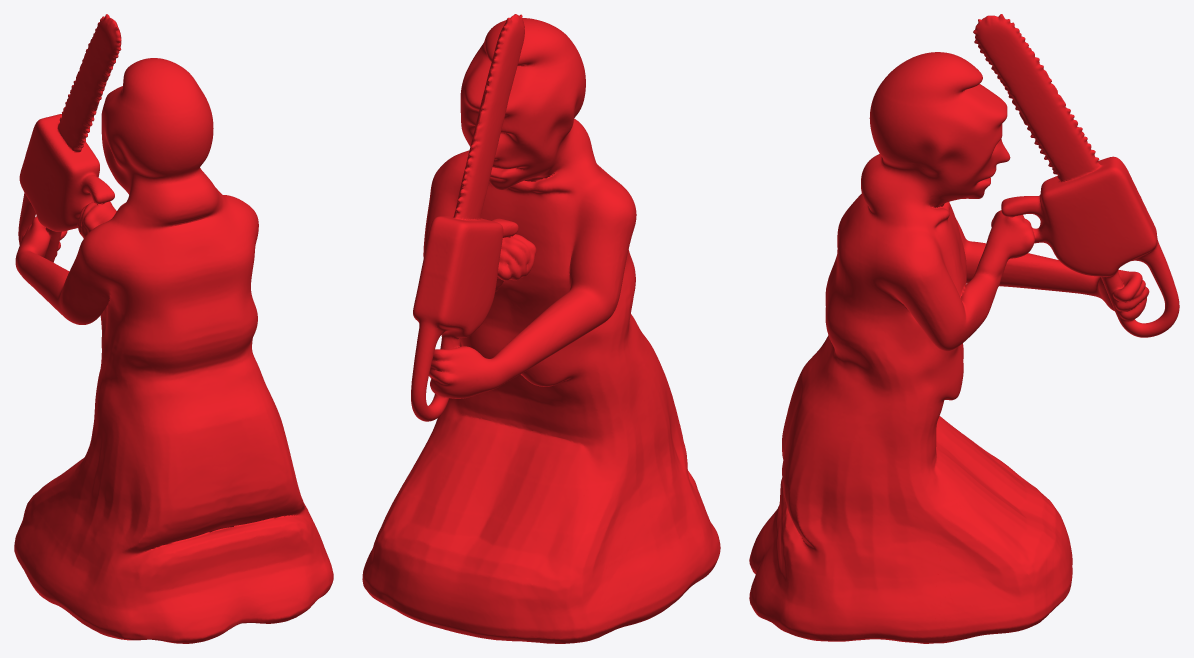
File: asset.glb
The picture shows the model from 3 angles, left to right: view 1: azimuth 30°, elevation 25°; view 2: azimuth 150°, elevation 25°; view 3: azimuth 270°, elevation 25°; orthographic projection. The views are drawn at different scales.
Visible parts, largest first — view 1: node_id14, node_id11, node_id8, node_id17; view 2: node_id8, node_id11, node_id14, node_id17; view 3: node_id11, node_id8, node_id14, node_id17.
Boxes of the visible parts, <box> form: node_id14: <box>29,58,333,643</box>; node_id11: <box>16,14,333,622</box>; node_id8: <box>14,16,116,585</box>; node_id17: <box>21,26,170,583</box>; node_id8: <box>362,22,654,643</box>; node_id11: <box>398,14,674,632</box>; node_id14: <box>426,18,720,616</box>; node_id17: <box>403,20,659,627</box>; node_id11: <box>749,14,1009,643</box>; node_id8: <box>937,18,1179,639</box>; node_id14: <box>749,52,986,643</box>; node_id17: <box>935,19,988,643</box>.
Size of the model in its own units: 0.2525 by 0.512 by 0.3536.
4 materials, 4 textured.
